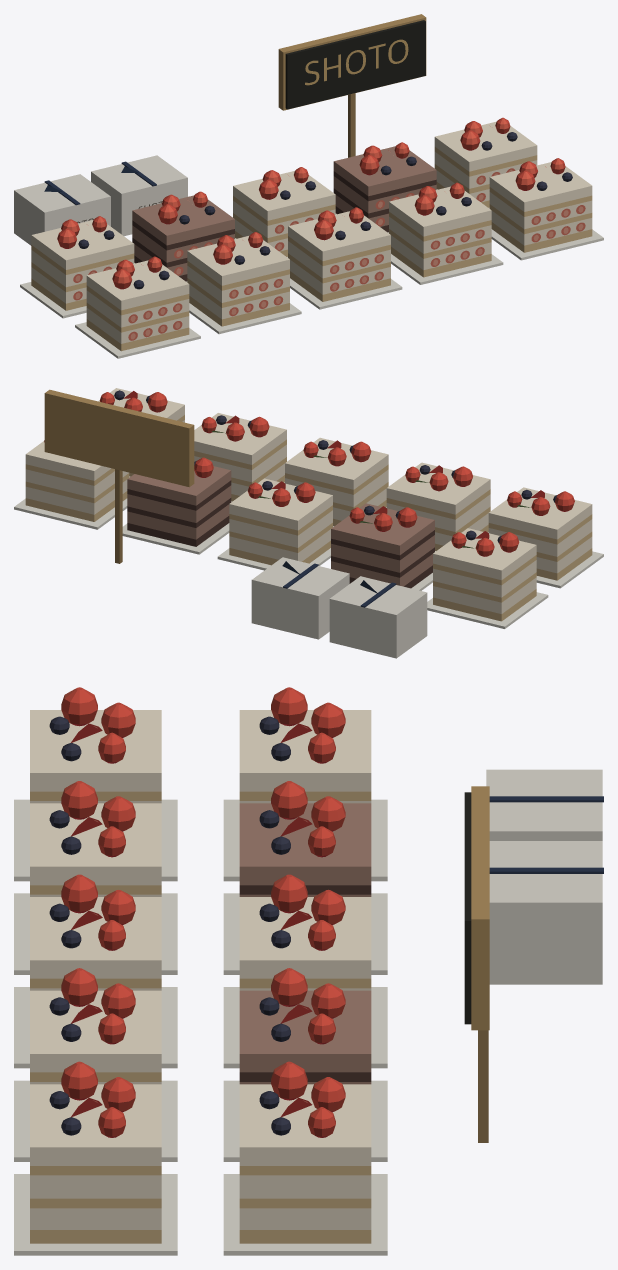
File: shoto.glb
The picture shows the model from 3 angles, top to bottom: view 1: azimuth 30°, elevation 25°; view 2: azimuth 150°, elevation 25°; view 3: azimuth 270°, elevation 25°; orthographic projection. The views are drawn at different scales.
Parts seen in each view (by area): view 1: SweetShoto; view 2: SweetShoto; view 3: SweetShoto.
Boxes of the visible parts, <box> form: SweetShoto: <box>14,14,603,358</box>; SweetShoto: <box>14,388,603,658</box>; SweetShoto: <box>14,687,603,1255</box>.
Size of the model in its own units: 1.83 by 0.5451 by 1.01.
